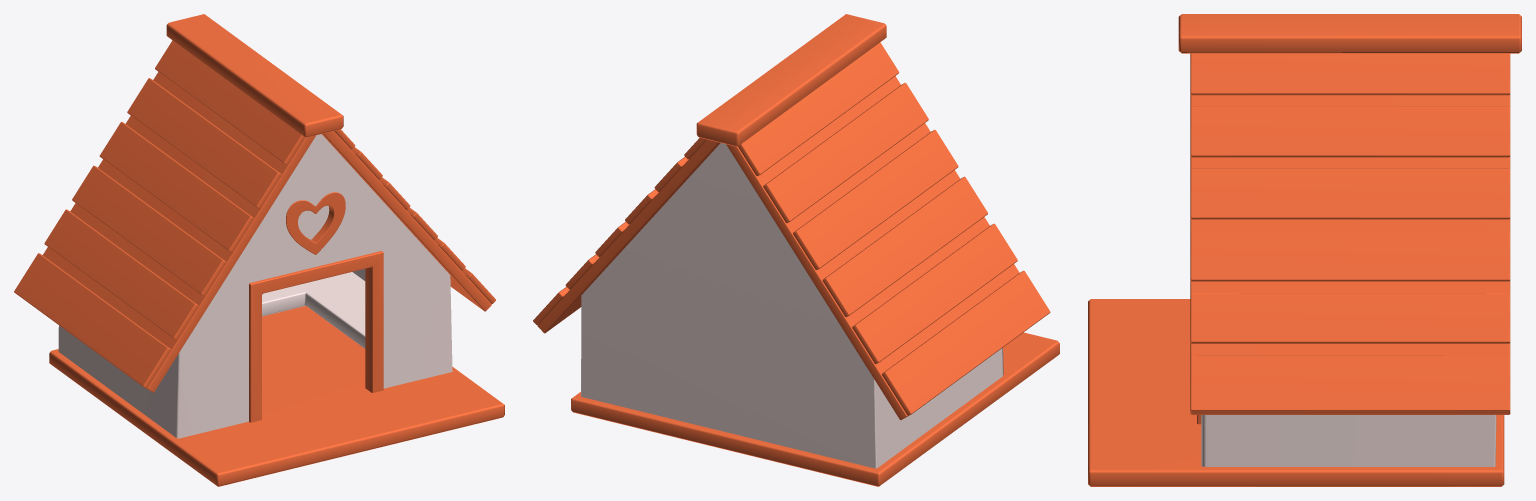
Rendered from Farm_14_Duck_Coop_2.glb.
3 renders of one model, left to right at view 1: azimuth 30°, elevation 25°; view 2: azimuth 150°, elevation 25°; view 3: azimuth 270°, elevation 25°, orthographic. The views are drawn at different scales.
Visible parts, largest first — view 1: Farm_14_Duck_Coop_2; view 2: Farm_14_Duck_Coop_2; view 3: Farm_14_Duck_Coop_2.
Part boxes in pixels (x1,y1,x2,y2): Farm_14_Duck_Coop_2: [14, 14, 504, 486]; Farm_14_Duck_Coop_2: [533, 14, 1059, 486]; Farm_14_Duck_Coop_2: [1088, 14, 1521, 486].
Bounding box in the file's own units: 2.66 × 2.21 × 2.3.
1 material, 1 textured.
